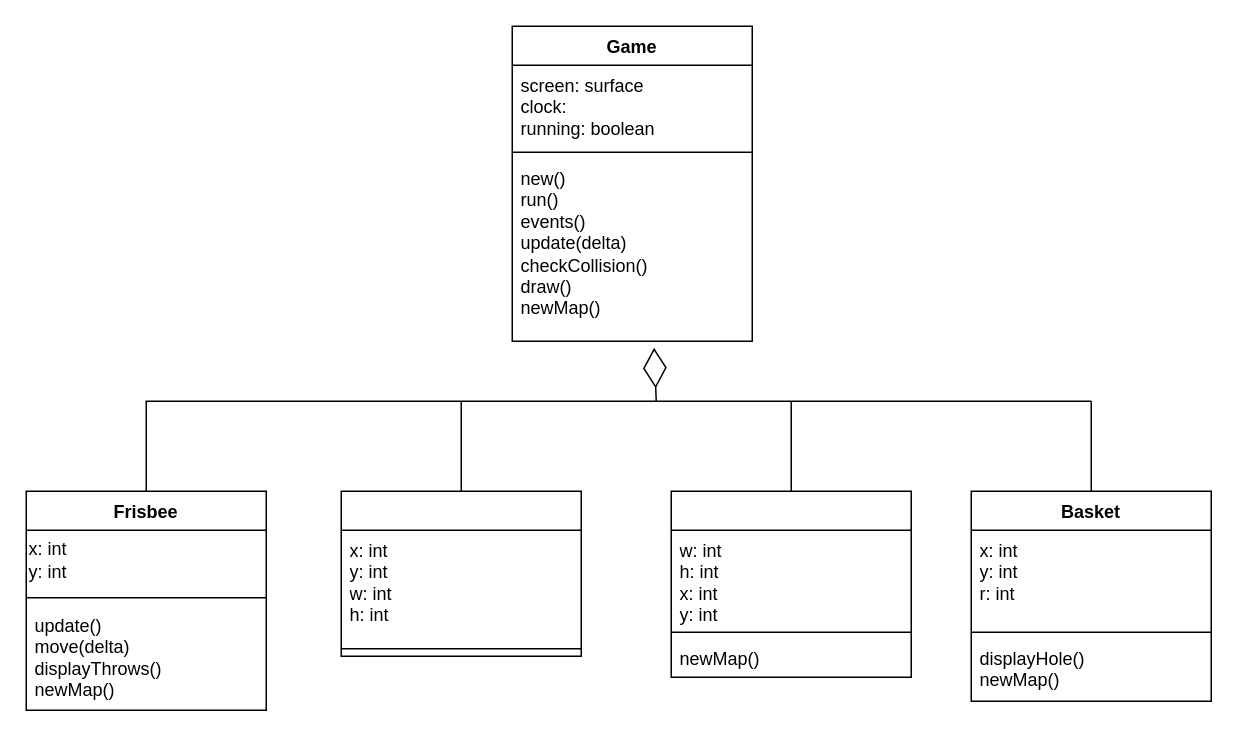
Image size: 1238x741. Some labels were removed from this diagram. The shapes that lost their labels are listed below. From the top down, each one's box as (x1, y1, x2, y2) in pixels, then its label:
(340, 490, 581, 656): Tree
(670, 490, 911, 677): Path
